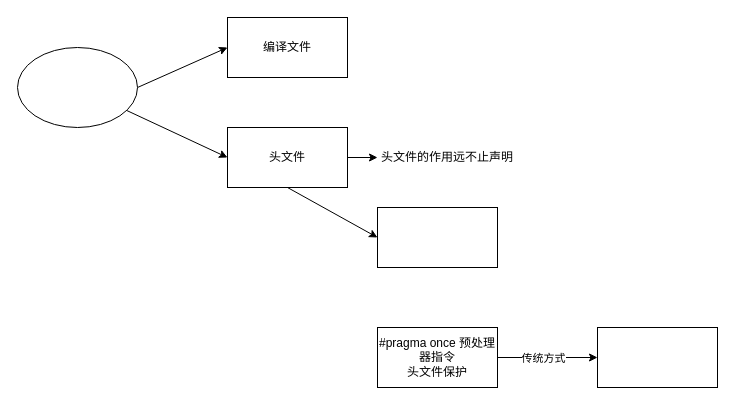
Image size: 735x405. Some labels were removed from this diagram. The shapes that lost their labels are listed below. From the top down, each one's centre as x and y in pixels, then its label:
At (437,237): "声明某些类型或函数".
At (657,357): "#ifndef xxx #define xxx #endif".
